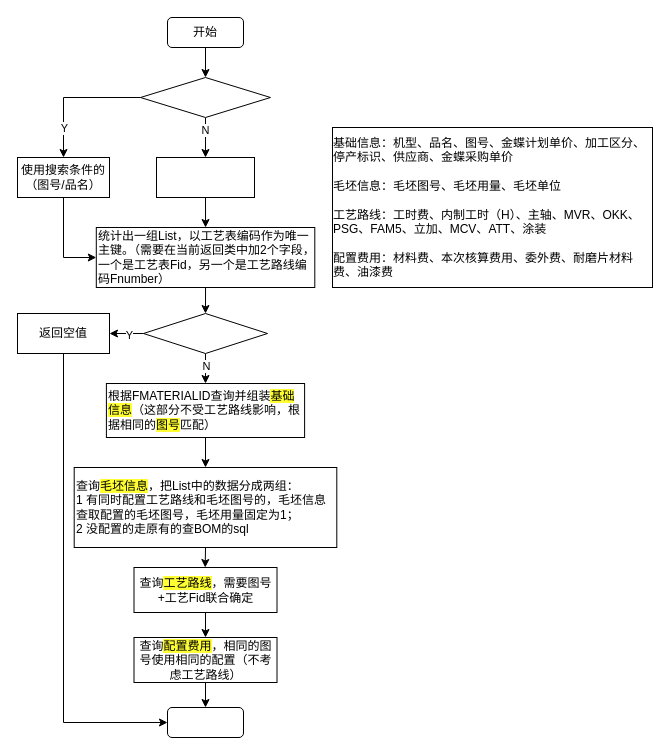
Image size: 670x755. Some labels were removed from this diagram. Each missing label, with the centre of its shape:
"List是否为空" goes at point (205, 333).
"使用配置表的图号" goes at point (205, 177).
"有无搜索条件" goes at point (205, 97).
"结束" goes at point (205, 722).
